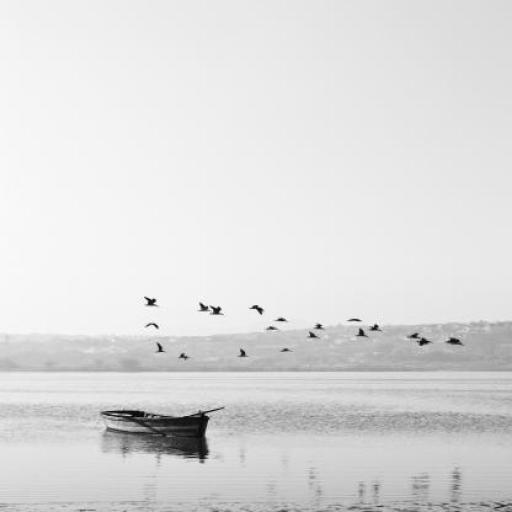bird: (444, 337, 466, 347), (143, 297, 161, 309), (354, 328, 370, 340), (209, 306, 228, 316), (248, 306, 266, 316), (415, 337, 434, 346), (196, 302, 213, 312), (155, 342, 169, 353), (306, 331, 322, 340), (406, 332, 424, 340), (237, 348, 250, 358), (366, 324, 382, 332), (312, 324, 328, 331), (264, 326, 282, 332), (178, 353, 191, 361), (274, 318, 290, 324), (346, 318, 362, 324), (145, 324, 160, 330), (279, 348, 293, 354)
